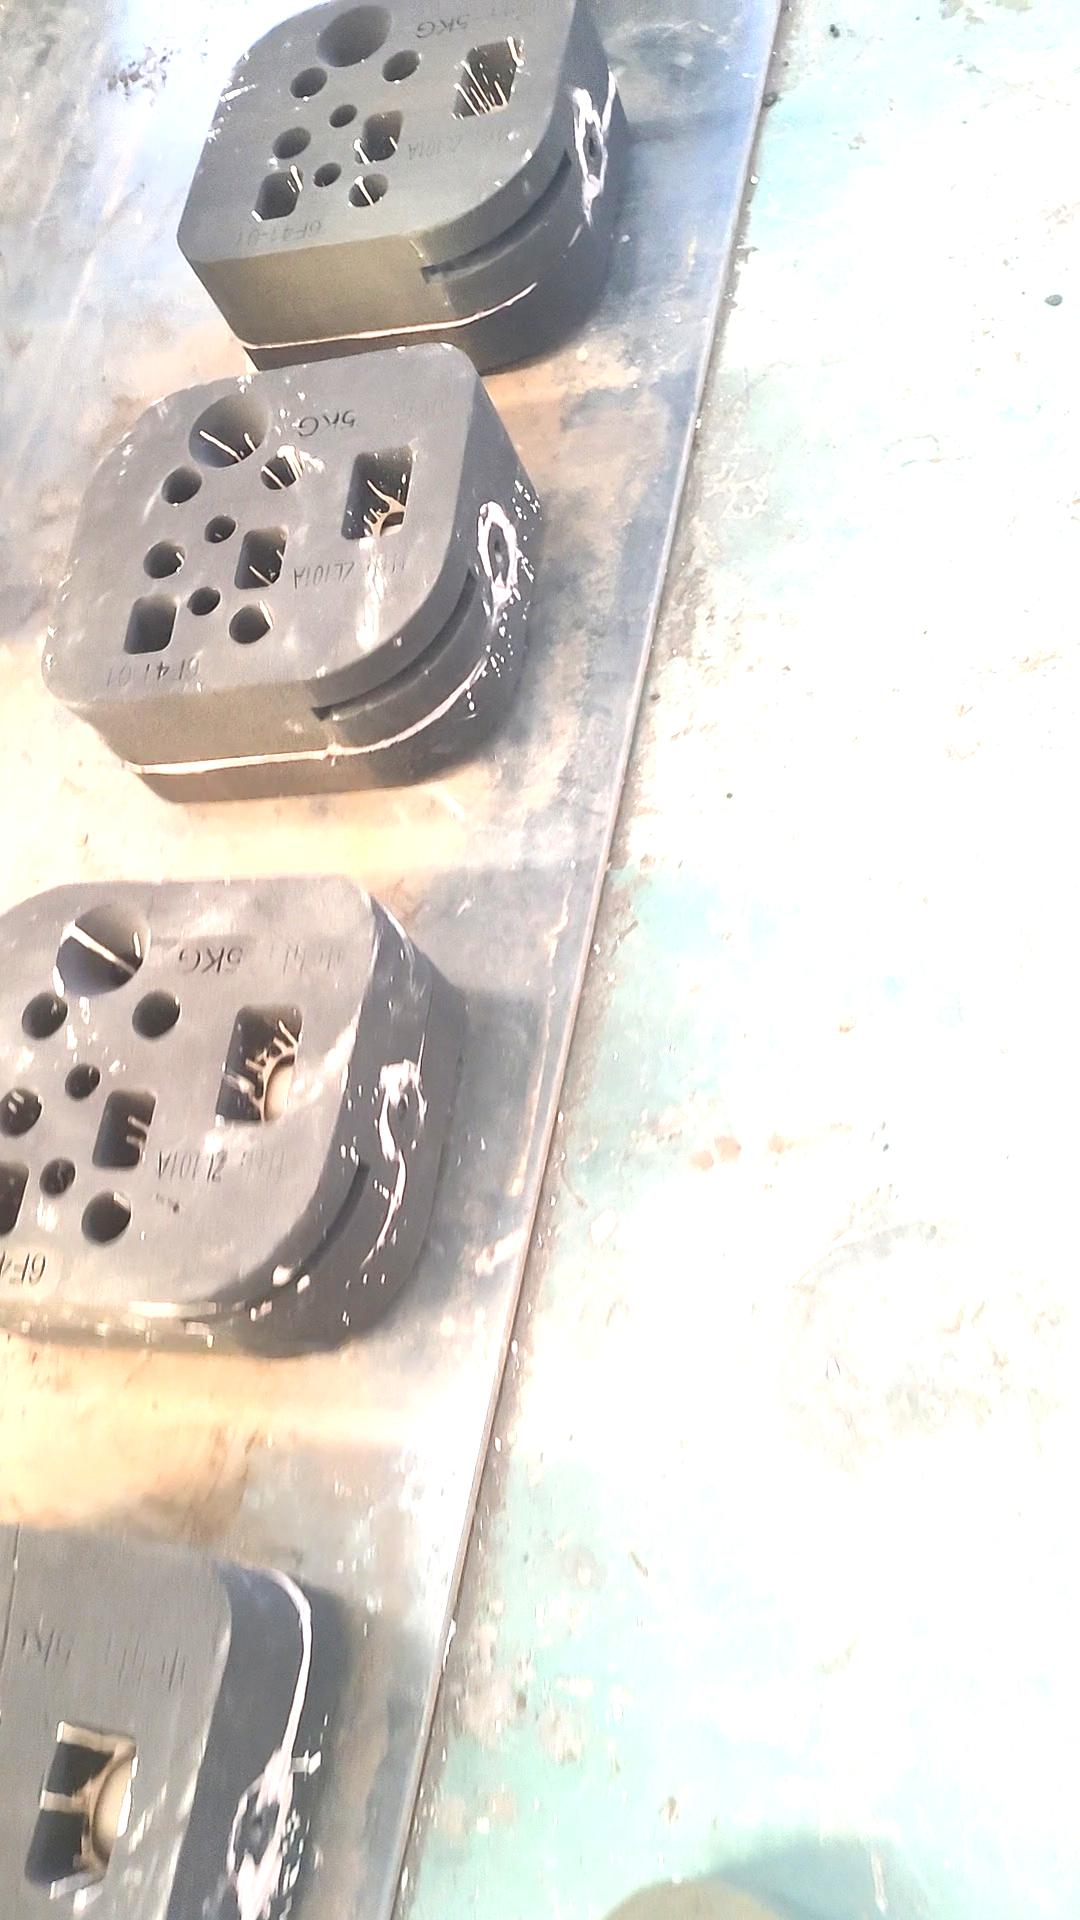pouring hole: (53, 902, 149, 998), (189, 392, 272, 467), (315, 7, 393, 67)
